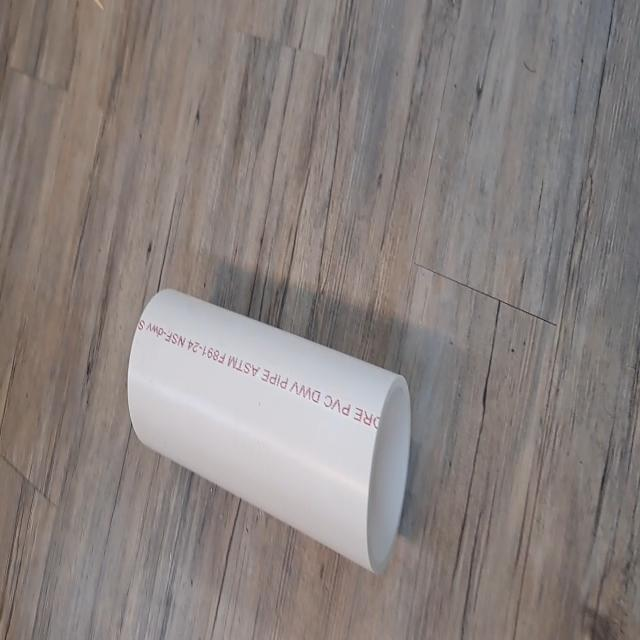CORAL: (124, 279, 415, 578)
